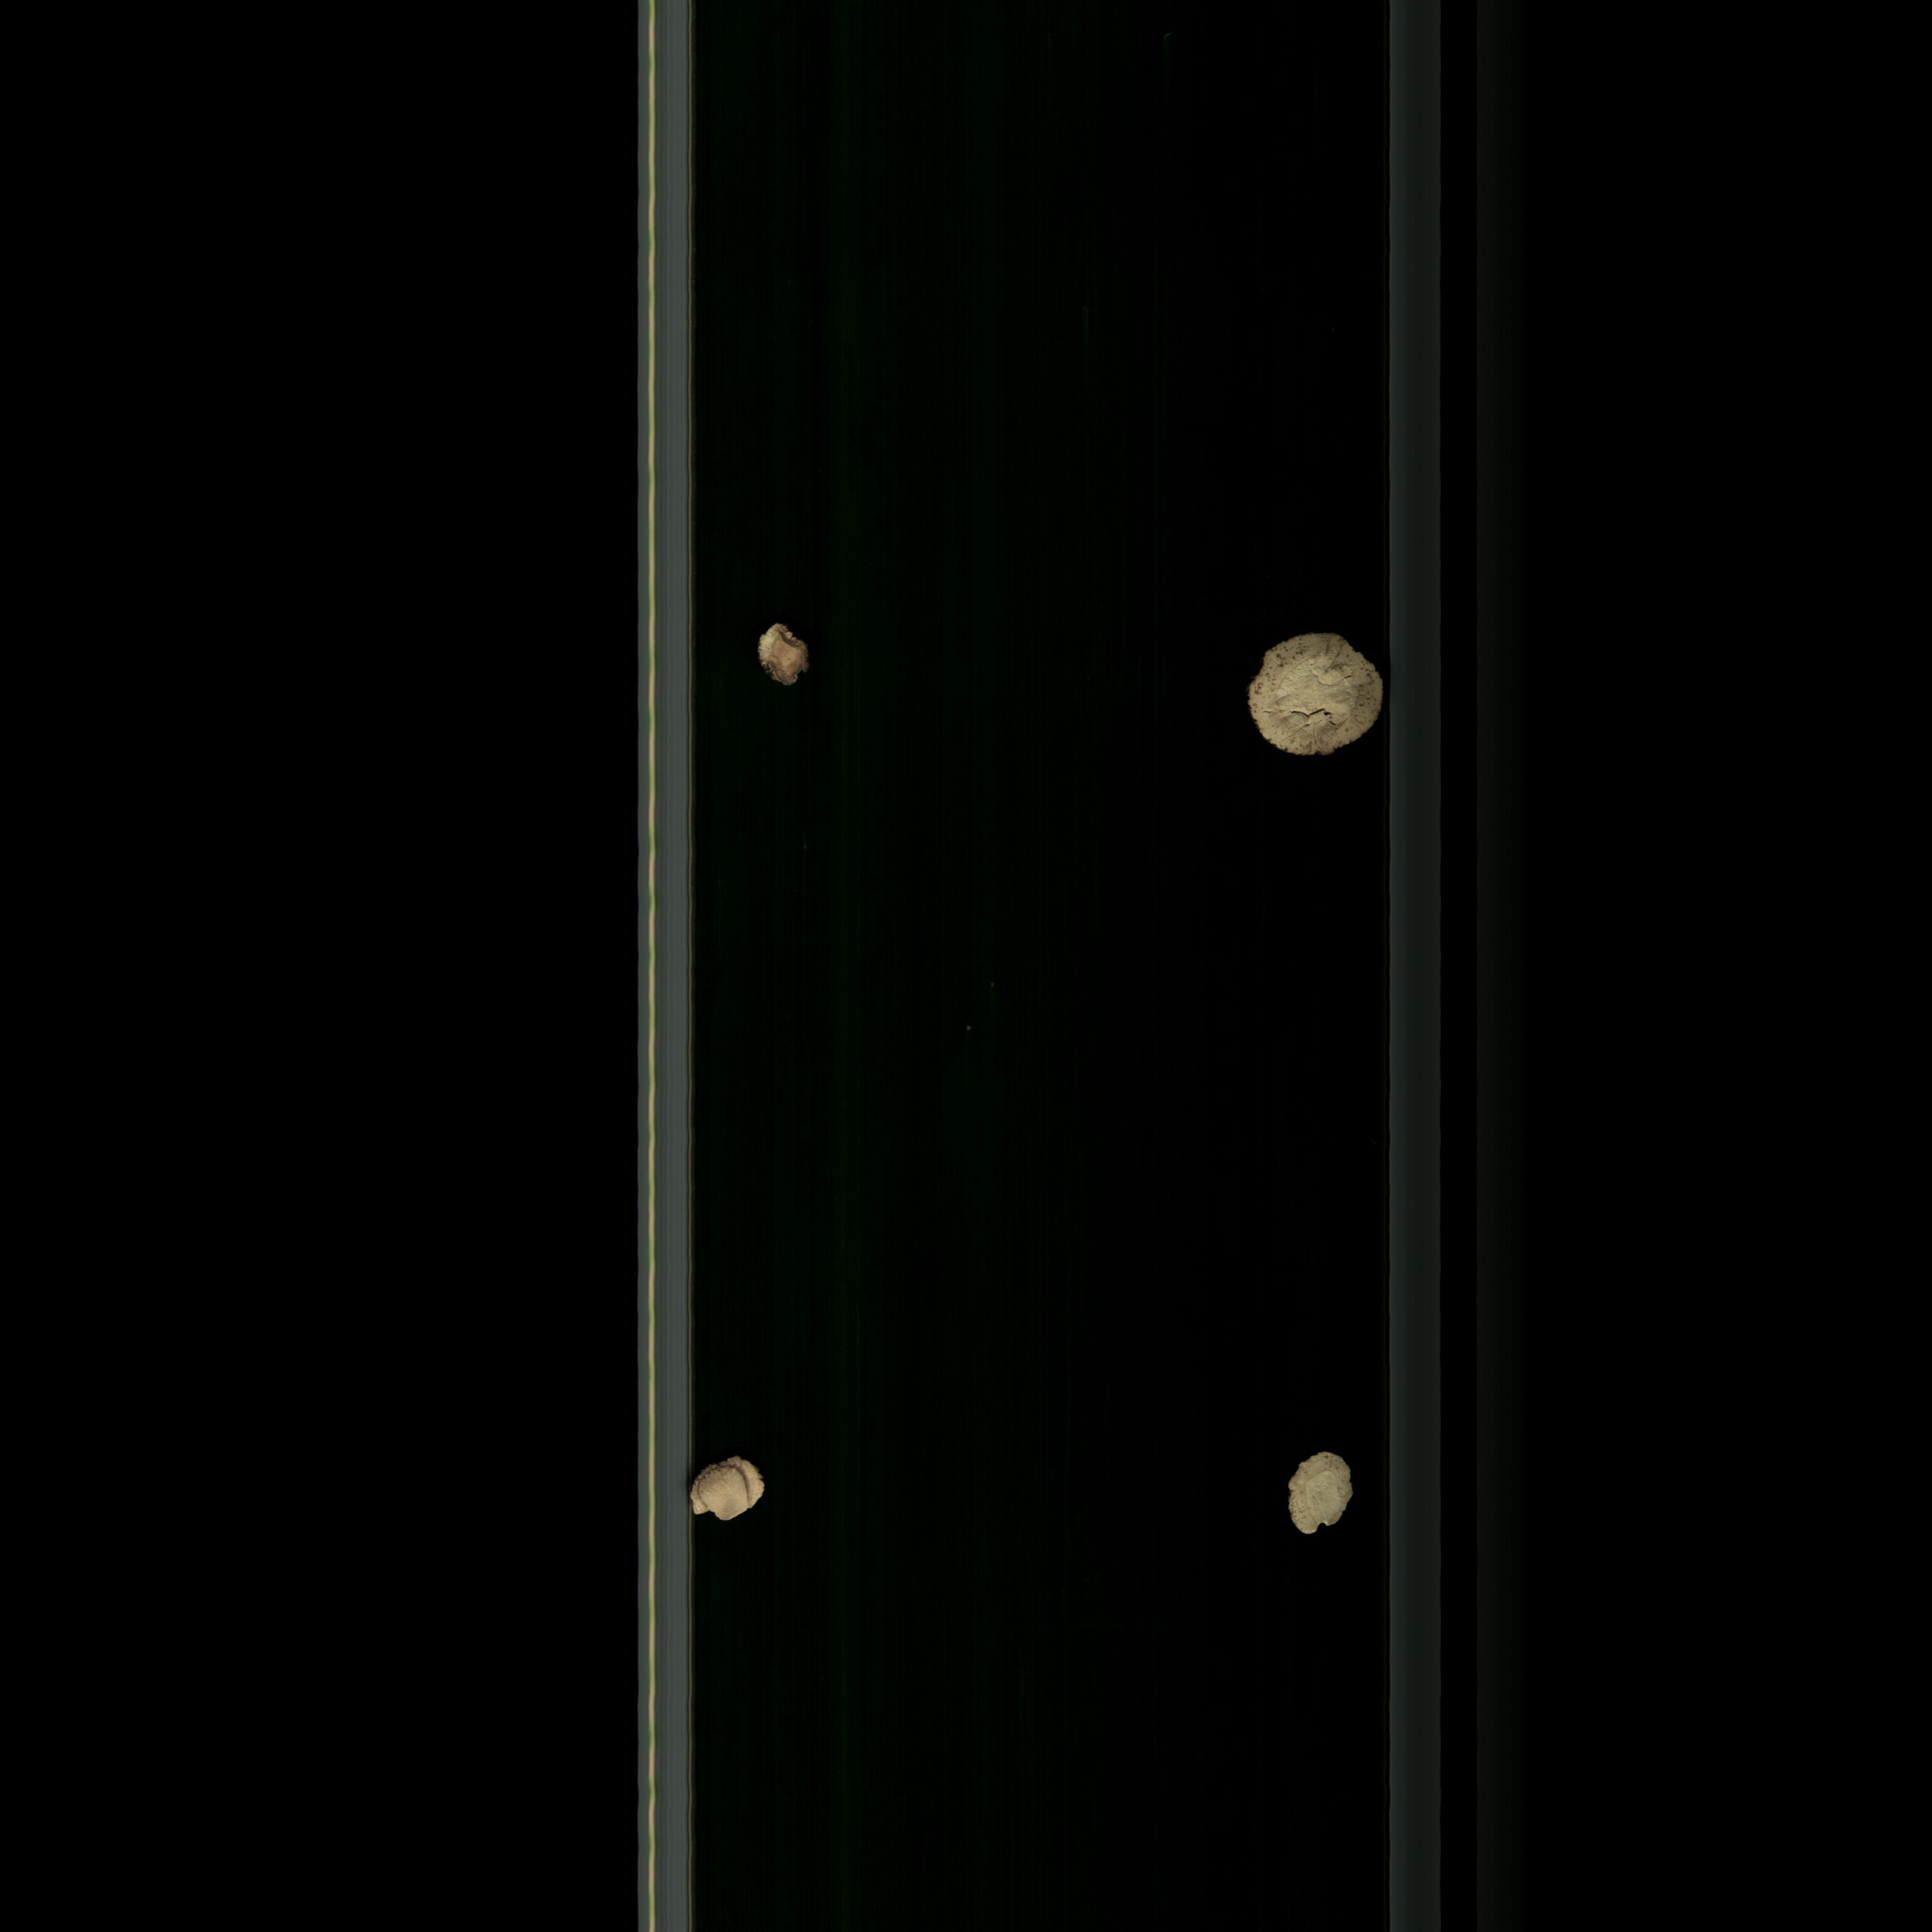debris: (1283, 1447, 1361, 1545)
moldy: (1244, 635, 1387, 763), (686, 1454, 780, 1525), (750, 619, 810, 688)
